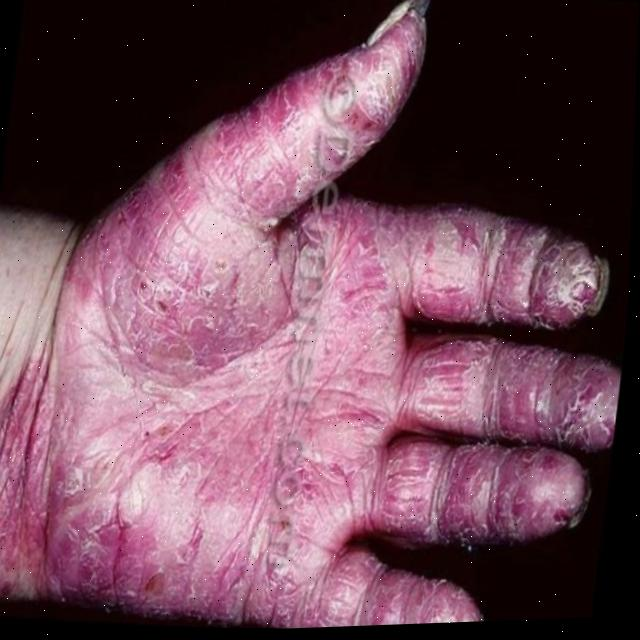Eczema: (6, 0, 609, 639)
